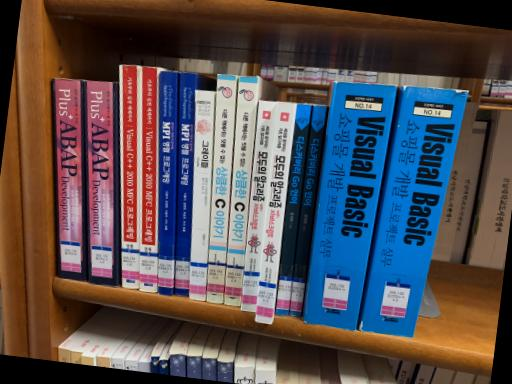book-spine: (361, 86, 468, 337), (304, 81, 397, 330), (256, 101, 296, 324), (224, 76, 258, 306), (289, 105, 326, 316), (276, 104, 312, 316), (242, 100, 277, 311), (52, 78, 86, 281), (206, 74, 236, 303), (86, 81, 119, 287), (189, 90, 214, 300), (174, 72, 196, 296), (139, 66, 157, 292), (120, 64, 138, 289), (158, 71, 176, 295)
